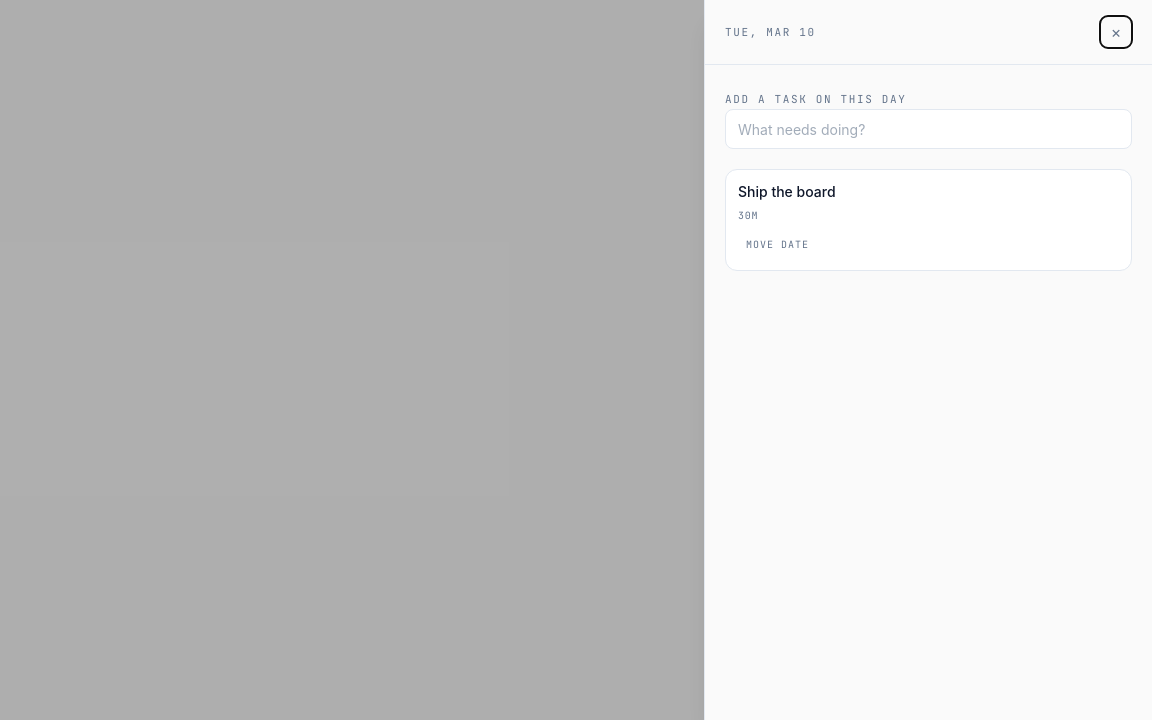
Test: day panel › selecting a task opens the shared task panel
Click the button "Ship the board" at coordinates (787, 192), box [738,182,1119,202]
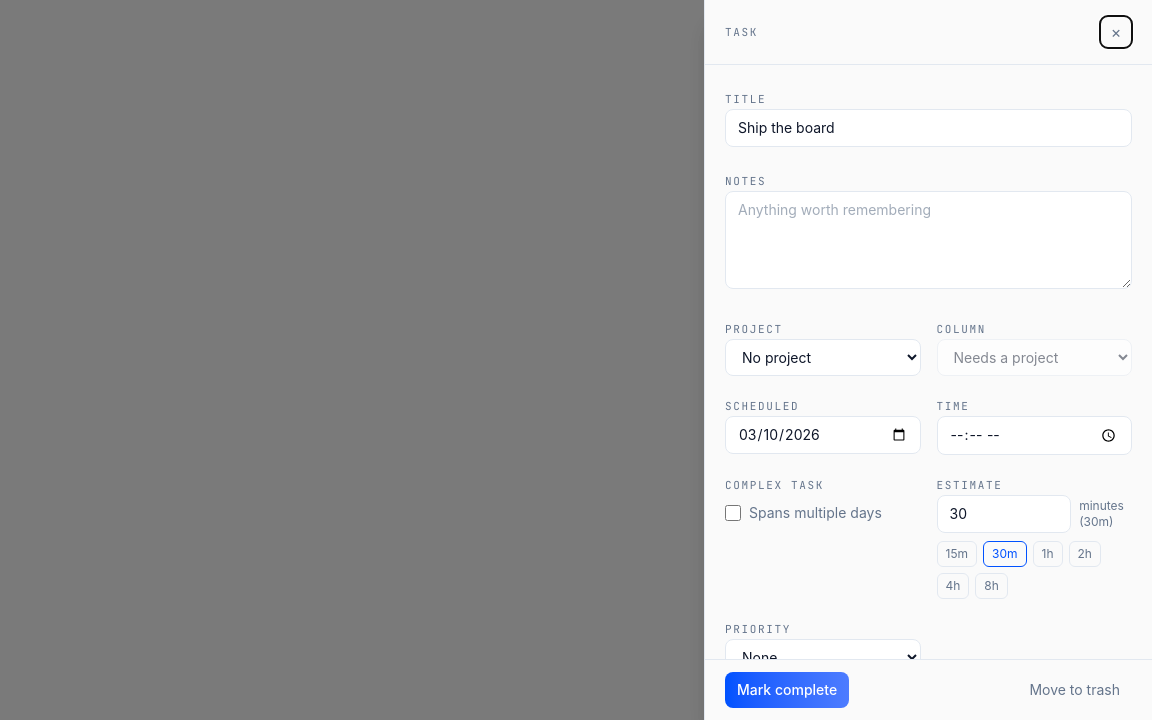
Check: the dialog "Task" is shown, box [704,0,1151,719]
